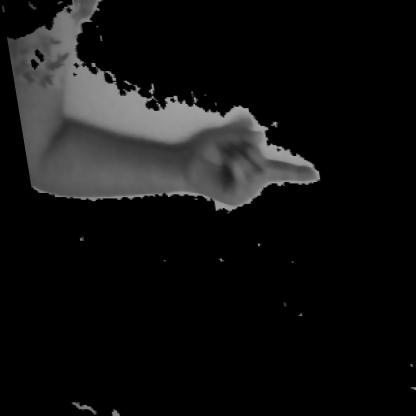one: (11, 72, 333, 232)
